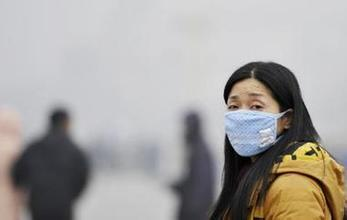OK: (225, 90, 284, 155)
